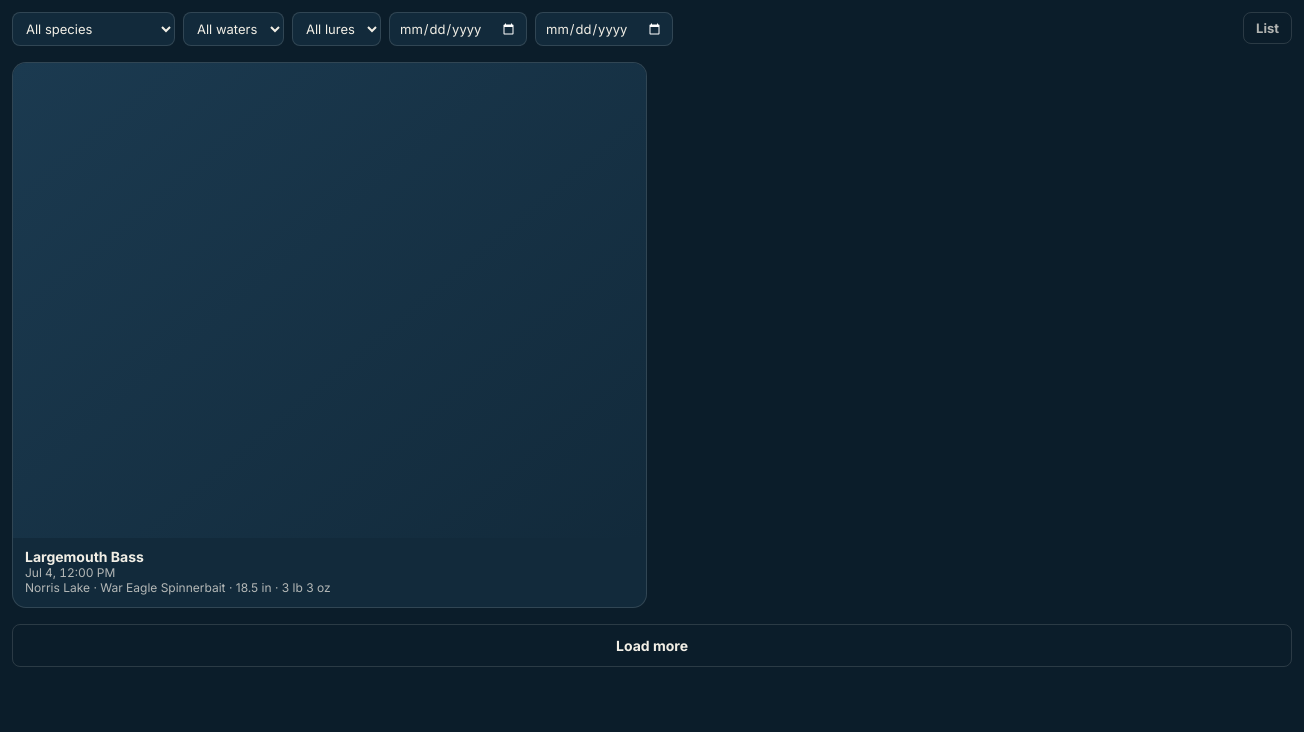
Journal (F3) › pages with the cursor the server returned
Click the button "Load more" at [652, 645], box [12,624,1292,667]
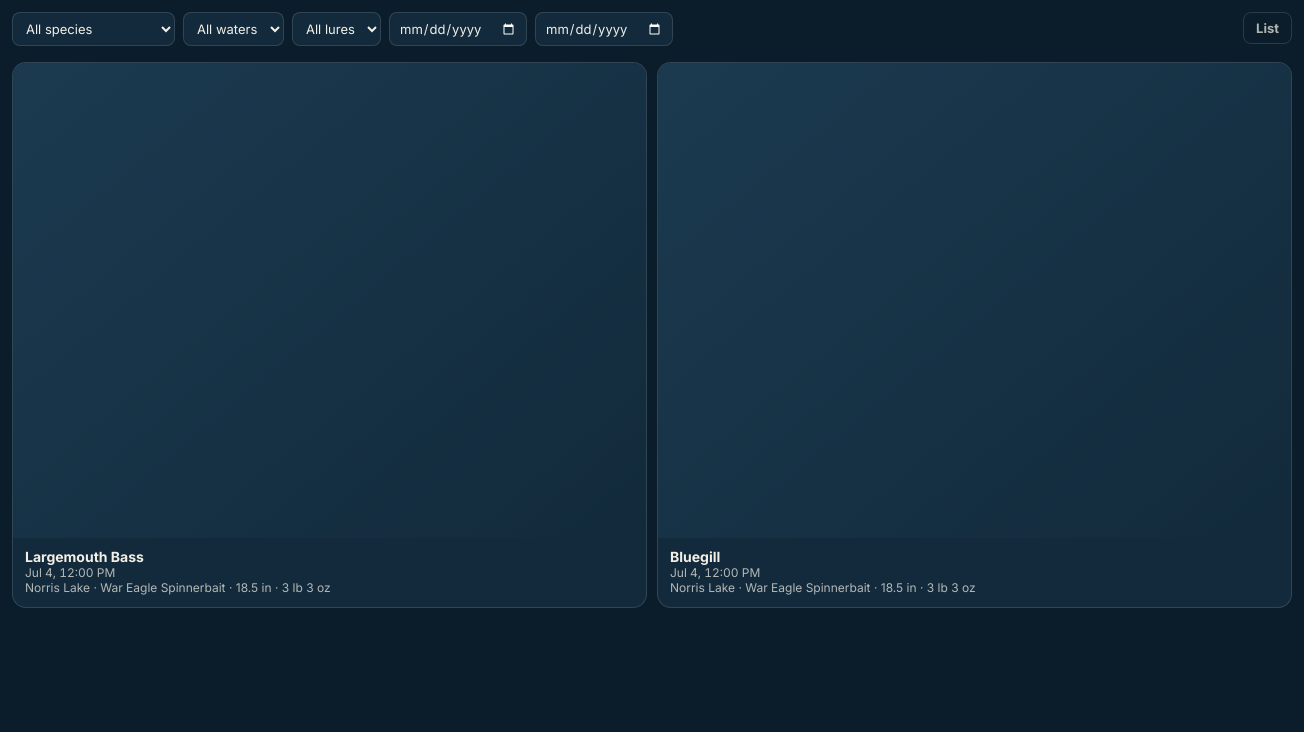
Result: the number of list items is 2 at [12,62,647,608]; [657,62,1292,608]
Result: the button "Load more" is gone
